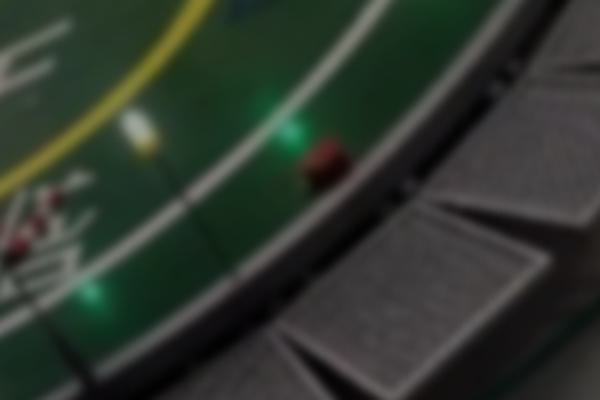Apron: (1, 1, 214, 195)
